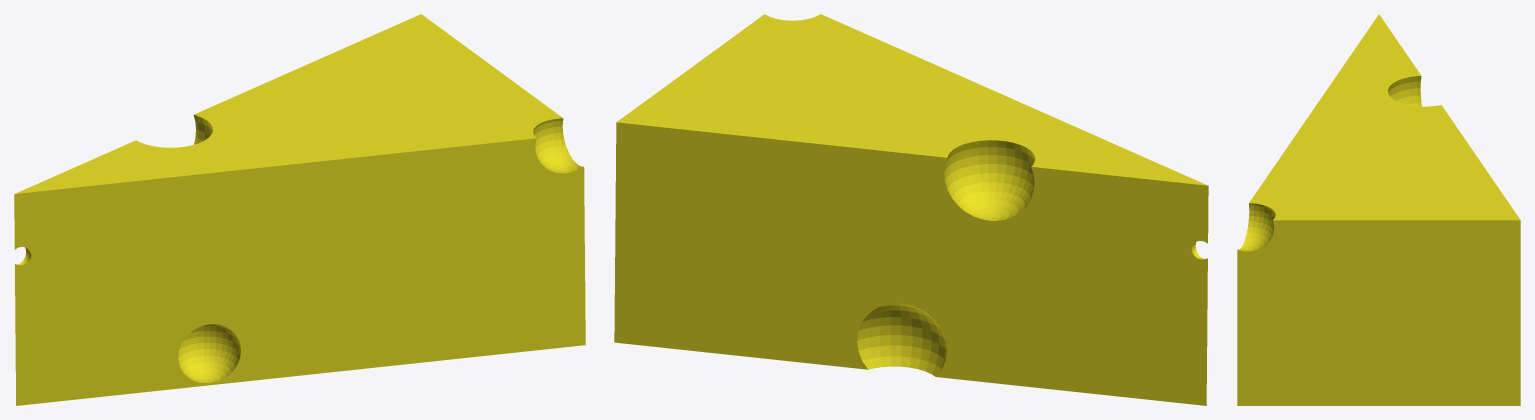
File: cheese.fbx
The picture shows the model from 3 angles, left to right: view 1: azimuth 30°, elevation 25°; view 2: azimuth 150°, elevation 25°; view 3: azimuth 270°, elevation 25°; orthographic projection. The views are drawn at different scales.
Visible parts, largest first — view 1: Cube; view 2: Cube; view 3: Cube.
Part boxes in pixels (<box>): Cube: <box>14,14,585,405</box>; Cube: <box>614,14,1208,405</box>; Cube: <box>1237,14,1520,405</box>.
Bounding box in the file's own units: 483 × 201 × 278.
